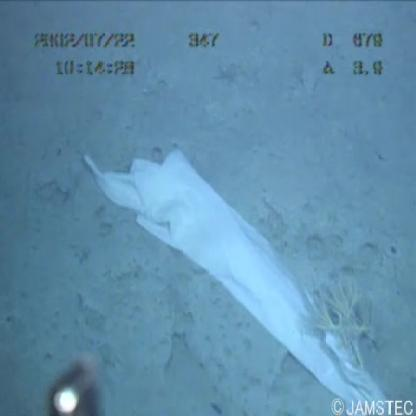Bio: (284, 259, 400, 382)
Rov: (23, 349, 111, 416)
Rác: (82, 133, 392, 416)
